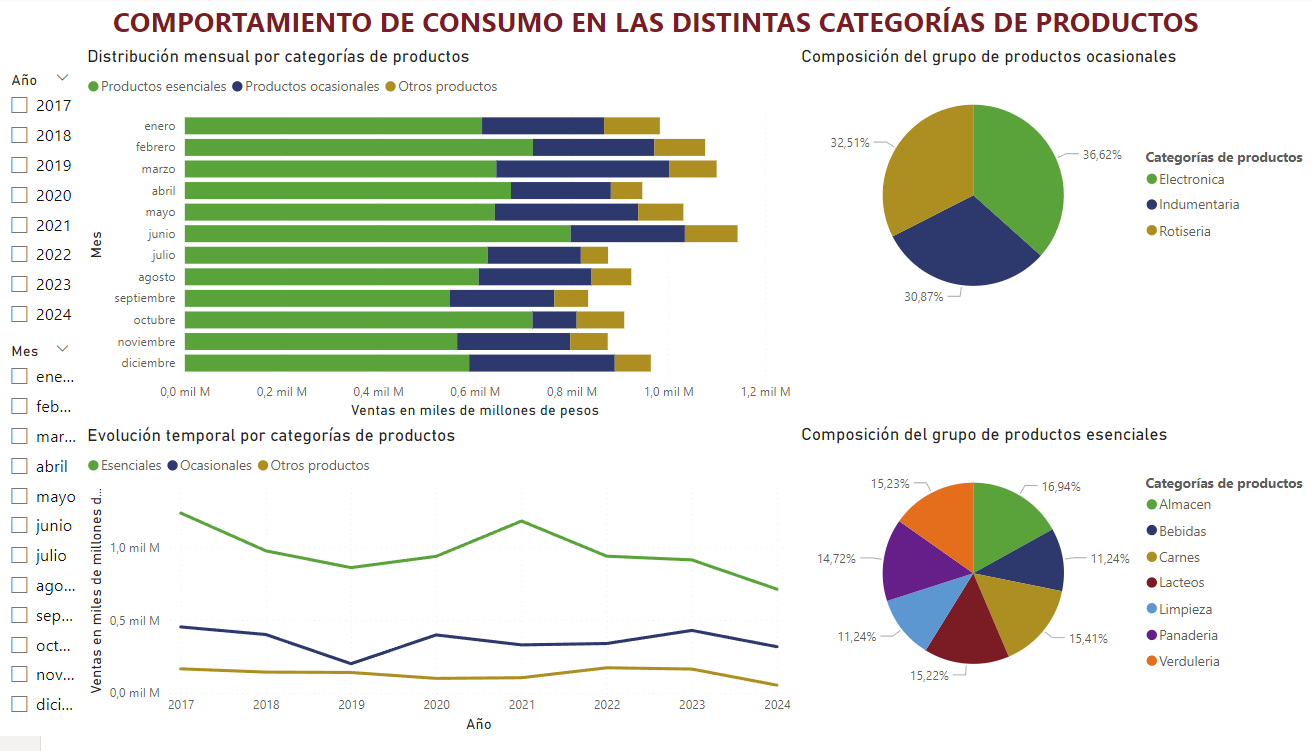

The page's visual inventory and layout, read from the dashboard file:
{"tool":"powerbi","page":{"name":"Categorías de Productos","canvas":[1280,720],"ordinal":3},"visuals":[{"type":"textbox","box":[0,0,1280,47.7],"z":0},{"type":"barChart","title":"Distribución mensual por categorías de productos","fields":{"Category":["ventas-totales-supermercados-2 (1).Filtro Temporal.Variación.Jerarquía de fechas.Mes"],"Y":["Sum(ventas-totales-supermercados-2 (1).esenciales)","Sum(ventas-totales-supermercados-2 (1).ocasionales)","Sum(ventas-totales-supermercados-2 (1).otros_mil_millones)"]},"box":[81.7,47.7,694.5,367.7],"z":1000},{"type":"slicer","fields":{"Values":["ventas-totales-supermercados-2 (1).Filtro Temporal.Variación.Jerarquía de fechas.Año"]},"box":[0,67.1,81.7,279.1],"z":2000},{"type":"slicer","fields":{"Values":["ventas-totales-supermercados-2 (1).Filtro Temporal.Variación.Jerarquía de fechas.Mes"]},"box":[0,330.7,81.7,389.1],"z":3000},{"type":"pieChart","title":"Composición del grupo de productos esenciales","fields":{"Y":["Sum(ventas-totales-supermercados-2 (1).almacen_mil_millones)","Sum(ventas-totales-supermercados-2 (1).bebidas_mil_millones)","Sum(ventas-totales-supermercados-2 (1).carnes_mil_millones)","Sum(ventas-totales-supermercados-2 (1).lacteos_mil_millones)","Sum(ventas-totales-supermercados-2 (1).limpieza_mil_millones)","Sum(ventas-totales-supermercados-2 (1).panaderia_mil_millones)","Sum(ventas-totales-supermercados-2 (1).verduleria_mil_millones)"]},"box":[776.2,415.3,503.8,271.4],"z":4000},{"type":"pieChart","title":"Composición del grupo de productos ocasionales","fields":{"Y":["Sum(ventas-totales-supermercados-2 (1).electronica_mil_millones)","Sum(ventas-totales-supermercados-2 (1).indumentaria_mil_millones)","Sum(ventas-totales-supermercados-2 (1).rotiseria_mil_millones)"]},"box":[776.2,47.7,503.8,271.4],"z":5000},{"type":"lineChart","title":"Evolución temporal por categorías de productos","fields":{"Category":["ventas-totales-supermercados-2 (1).Filtro Temporal.Variación.Jerarquía de fechas.Año"],"Y":["Sum(ventas-totales-supermercados-2 (1).esenciales)","Sum(ventas-totales-supermercados-2 (1).ocasionales)","Sum(ventas-totales-supermercados-2 (1).otros_mil_millones)"]},"box":[82,416,694,304],"z":6000}]}

Visuals, with their boxes on the page's 1280x720 design canvas (x1, y1, x2, y2). These are canvas units, not pixel positions in the 1311x751 screenshot, which may show the page scaled, cropped or inside an application window:
textbox: Rect(0, 0, 1280, 48)
"Distribución mensual por categorías de productos" barChart: Rect(82, 48, 776, 415)
slicer - ventas-totales-supermercados-2 (1).Filtro Temporal.Variación.Jerarquía de fechas.Año: Rect(0, 67, 82, 346)
slicer - ventas-totales-supermercados-2 (1).Filtro Temporal.Variación.Jerarquía de fechas.Mes: Rect(0, 331, 82, 720)
"Composición del grupo de productos esenciales" pieChart: Rect(776, 415, 1280, 687)
"Composición del grupo de productos ocasionales" pieChart: Rect(776, 48, 1280, 319)
"Evolución temporal por categorías de productos" lineChart: Rect(82, 416, 776, 720)
